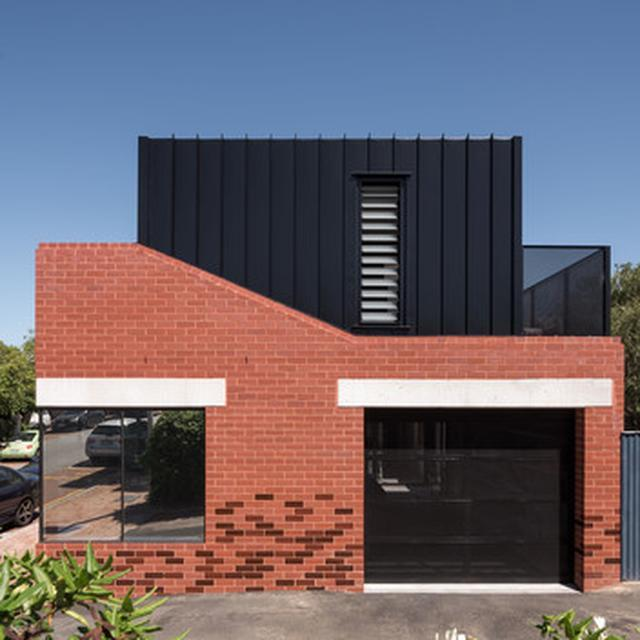building: (36, 137, 622, 595)
